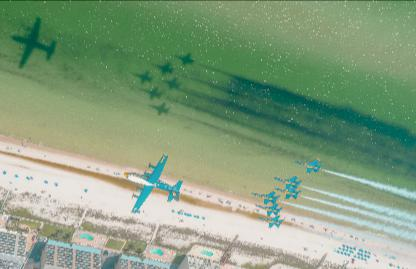Be200: (124, 153, 184, 213)
F15: (274, 174, 304, 190), (252, 190, 282, 206), (296, 157, 324, 174), (274, 185, 304, 200), (256, 202, 284, 218), (257, 215, 285, 229)
